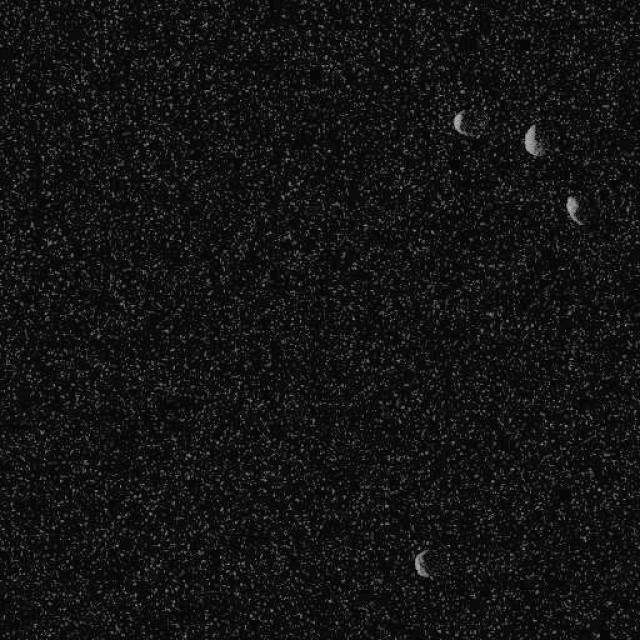D2: (452, 106, 488, 139), (523, 121, 545, 158), (564, 194, 584, 225), (412, 548, 432, 578), (451, 109, 470, 135)
